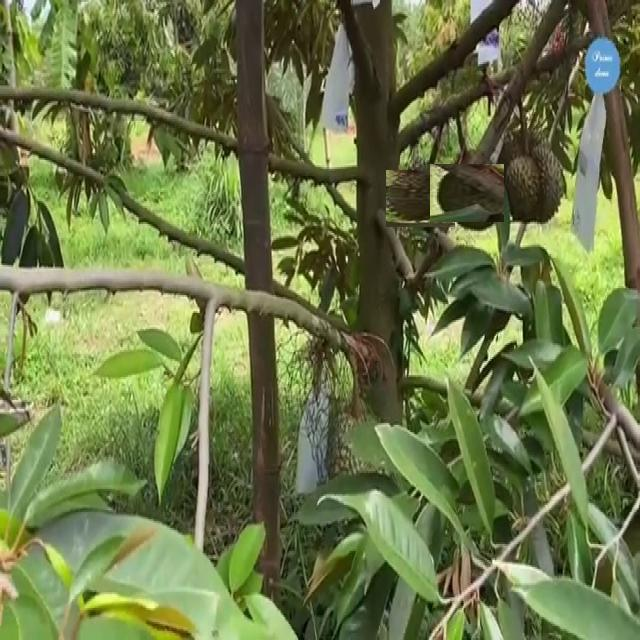durian: (438, 156, 512, 230), (389, 167, 453, 230), (526, 140, 571, 223), (504, 152, 544, 229)
